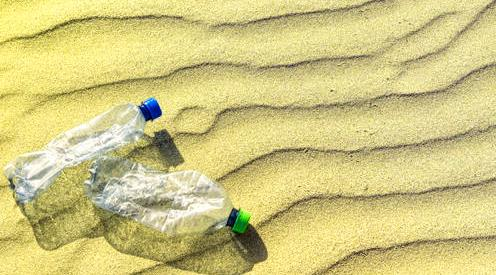Plastic: (2, 95, 160, 207)
